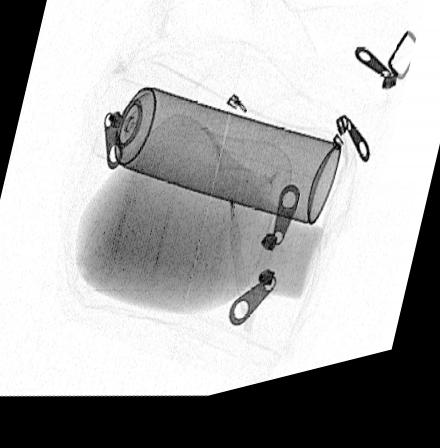Sprayer: (88, 84, 339, 241)
